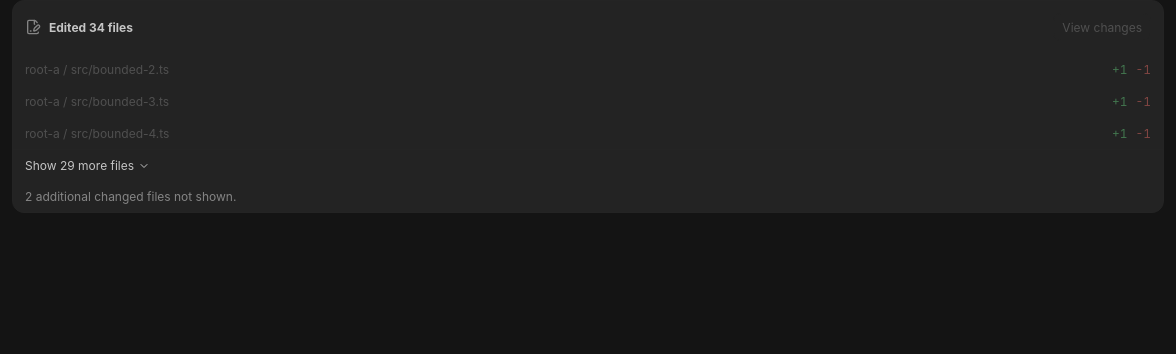
Test case: keeps the edit card bounded to three rows until requested and 32 retained files overall
expect the number of list items is 3: met, box [13,53,1163,85]; [13,85,1163,117]; [13,117,1163,149]
Step 1. Click the button "Show 29 more files" → (80,166), box [13,149,1163,181]
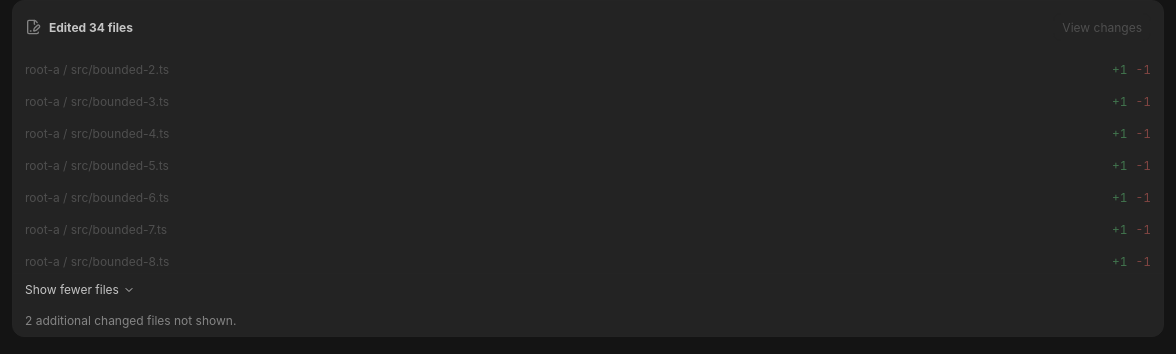
Step 2. Click the button "Show fewer files" → (72,290), box [13,273,1163,305]
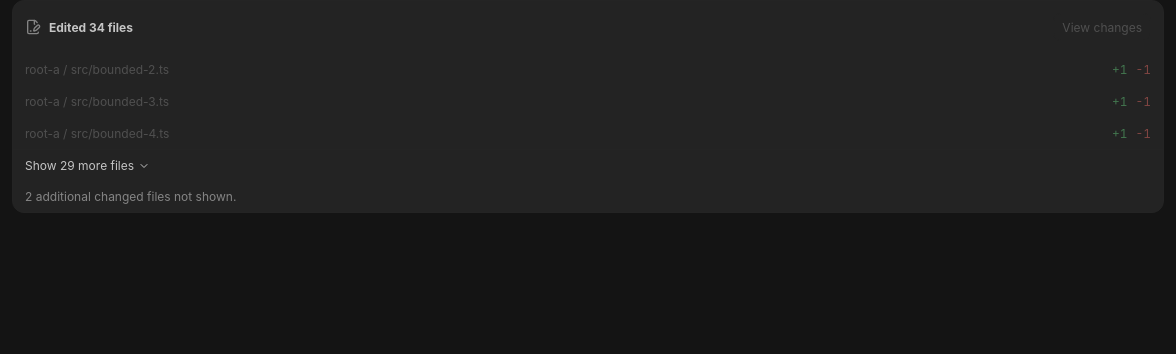
expect the number of list items is 3: met, box [13,53,1163,85]; [13,85,1163,117]; [13,117,1163,149]
